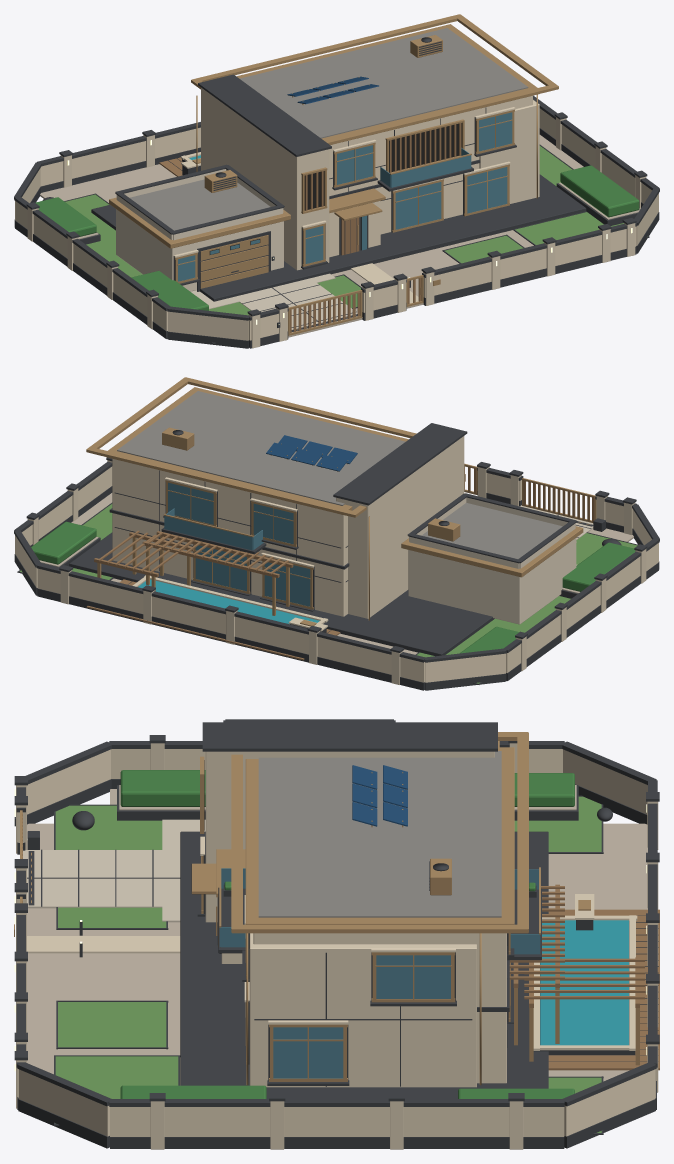
Rendered from cottage_dune.glb.
3 views of the same model, one above another, from view 1: azimuth 30°, elevation 25°; view 2: azimuth 150°, elevation 25°; view 3: azimuth 270°, elevation 25° (orthographic). The views are drawn at different scales.
Visible parts, largest first — view 1: Merged_CottageBasalt, Merged_CottageSand, Merged_RoofGravel, Merged_CottageBronze, Merged_CottageTravertine, Merged_CottageGlass, Merged_CottageLawn, Merged_CottageLimestone, Merged_CottageGravel, Merged_CottageHedge, Merged_CottageTeak, Merged_CottagePaving (+2 smaller); view 2: Merged_CottageBasalt, Merged_CottageSand, Merged_RoofGravel, Merged_CottageTravertine, Merged_CottageBronze, Merged_CottageLimestone, Merged_CottageGlass, Merged_CottageTeak, Merged_CottageHedge, Merged_CottageLawn, Merged_SolarCell, cottage_pool_water (+1 smaller); view 3: Merged_CottageBasalt, Merged_CottageTravertine, Merged_RoofGravel, Merged_CottageSand, Merged_CottageBronze, Merged_CottageGravel, Merged_CottageLawn, Merged_CottagePaving, Merged_CottageTeak, cottage_pool_water, Merged_CottageGlass, Merged_CottageHedge (+1 smaller).
Boxes of the visible parts, bbox=[...] form: Merged_CottageBasalt: bbox=[14, 37, 659, 348]; Merged_CottageSand: bbox=[15, 95, 658, 340]; Merged_RoofGravel: bbox=[129, 28, 528, 230]; Merged_CottageBronze: bbox=[109, 14, 558, 335]; Merged_CottageTravertine: bbox=[27, 87, 646, 348]; Merged_CottageGlass: bbox=[178, 112, 512, 281]; Merged_CottageLawn: bbox=[65, 146, 647, 315]; Merged_CottageLimestone: bbox=[116, 169, 283, 291]; Merged_CottageGravel: bbox=[40, 135, 640, 337]; Merged_CottageHedge: bbox=[35, 165, 639, 310]; Merged_CottageTeak: bbox=[159, 123, 461, 332]; Merged_CottagePaving: bbox=[190, 273, 362, 336]; Merged_CottageBasalt: bbox=[14, 423, 659, 690]; Merged_CottageSand: bbox=[15, 458, 658, 682]; Merged_RoofGravel: bbox=[117, 391, 562, 558]; Merged_CottageTravertine: bbox=[27, 436, 646, 684]; Merged_CottageBronze: bbox=[86, 377, 596, 626]; Merged_CottageLimestone: bbox=[408, 497, 576, 624]; Merged_CottageGlass: bbox=[164, 482, 310, 606]; Merged_CottageTeak: bbox=[86, 465, 594, 660]; Merged_CottageHedge: bbox=[31, 521, 635, 653]; Merged_CottageLawn: bbox=[20, 504, 637, 683]; Merged_SolarCell: bbox=[266, 435, 357, 471]; cottage_pool_water: bbox=[138, 579, 319, 624]; Merged_CottageBasalt: bbox=[14, 719, 659, 1148]; Merged_CottageTravertine: bbox=[16, 743, 658, 1149]; Merged_RoofGravel: bbox=[258, 751, 501, 917]; Merged_CottageSand: bbox=[18, 749, 655, 1136]; Merged_CottageBronze: bbox=[14, 732, 639, 1085]; Merged_CottageGravel: bbox=[27, 785, 647, 1085]; Merged_CottageLawn: bbox=[55, 796, 601, 1132]; Merged_CottagePaving: bbox=[23, 819, 205, 922]; Merged_CottageTeak: bbox=[22, 813, 659, 1070]; cottage_pool_water: bbox=[540, 920, 628, 1045]; Merged_CottageGlass: bbox=[219, 868, 540, 1078]; Merged_CottageHedge: bbox=[120, 770, 574, 1098].
Size of the model in its own units: 35.96 by 8.9 by 27.01.
